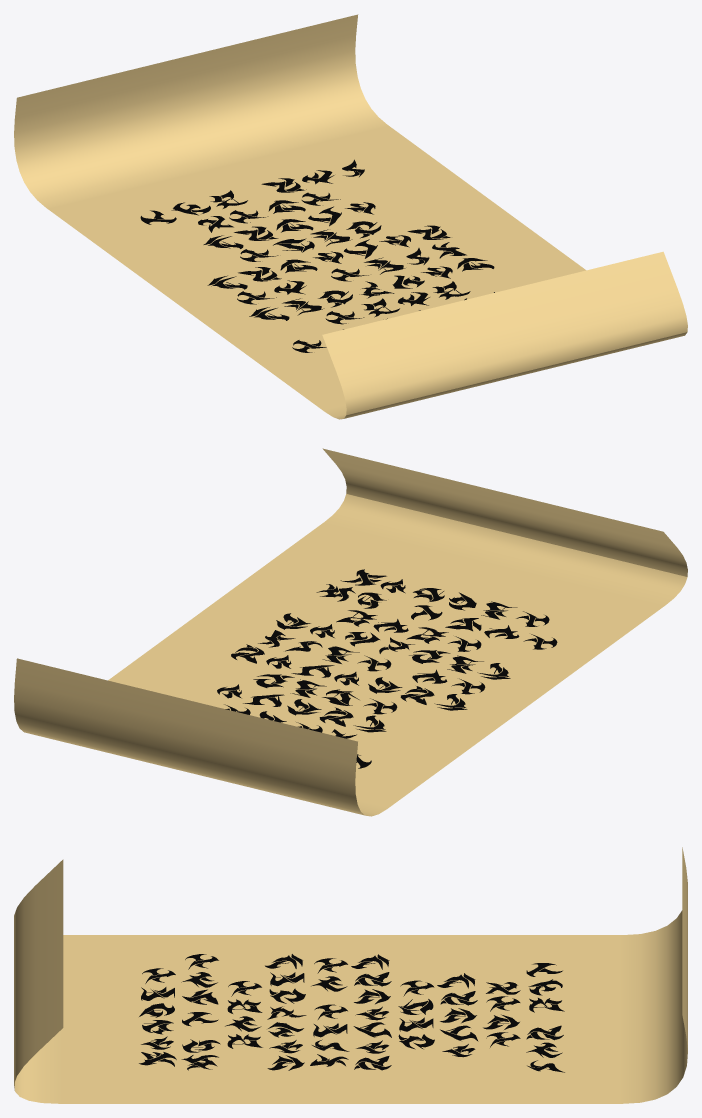
File: pergamino.fbx
3 renders of one model, top to bottom at view 1: azimuth 30°, elevation 25°; view 2: azimuth 150°, elevation 25°; view 3: azimuth 270°, elevation 25°, orthographic.
Parts seen in each view (by area): view 1: Plane001, TextPlus003; view 2: Plane001, TextPlus003; view 3: Plane001, TextPlus003.
Part boxes in pixels (box(x1,y1,x2,y2)): Plane001: box(14, 14, 687, 419); TextPlus003: box(140, 159, 494, 352); Plane001: box(14, 448, 687, 816); TextPlus003: box(217, 569, 557, 768); Plane001: box(14, 847, 687, 1103); TextPlus003: box(139, 954, 564, 1072).
Bounding box in the file's own units: 91.38 × 22.71 × 154.
